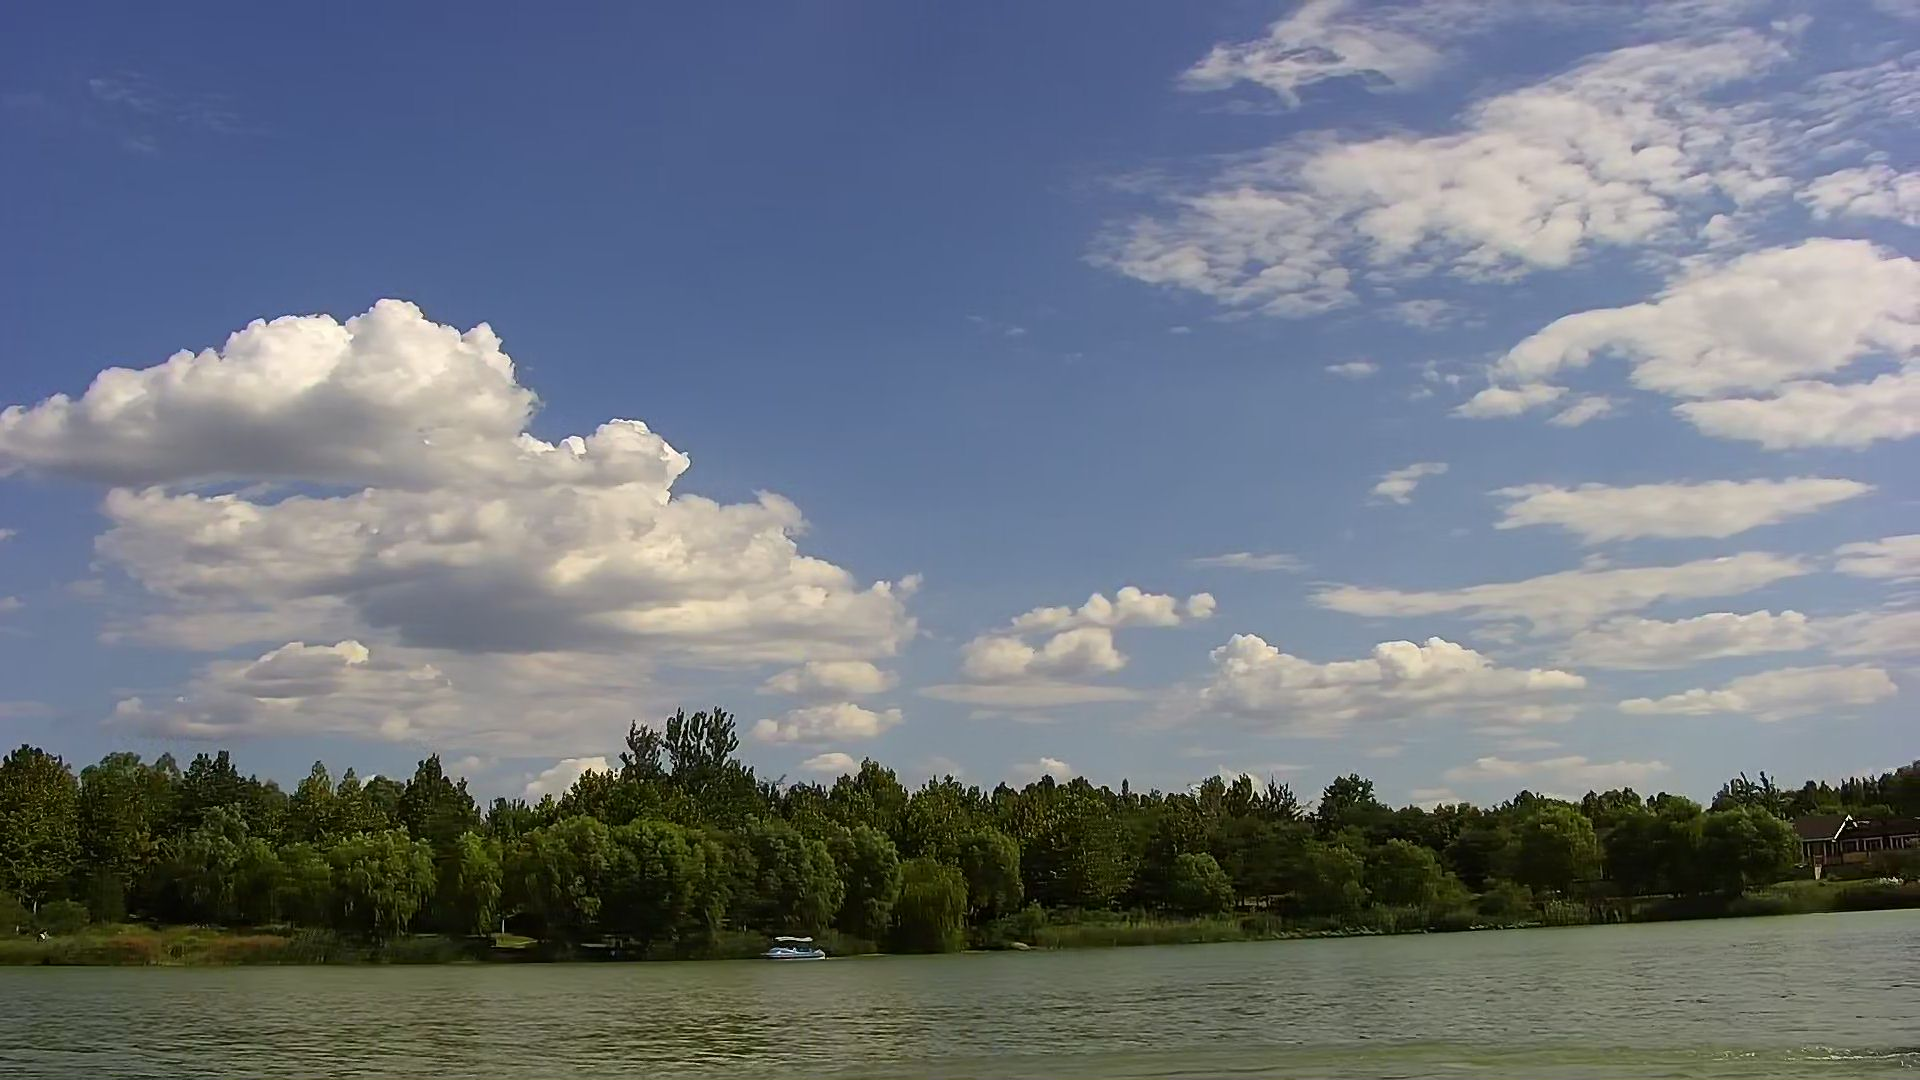boat: (758, 932, 828, 965)
